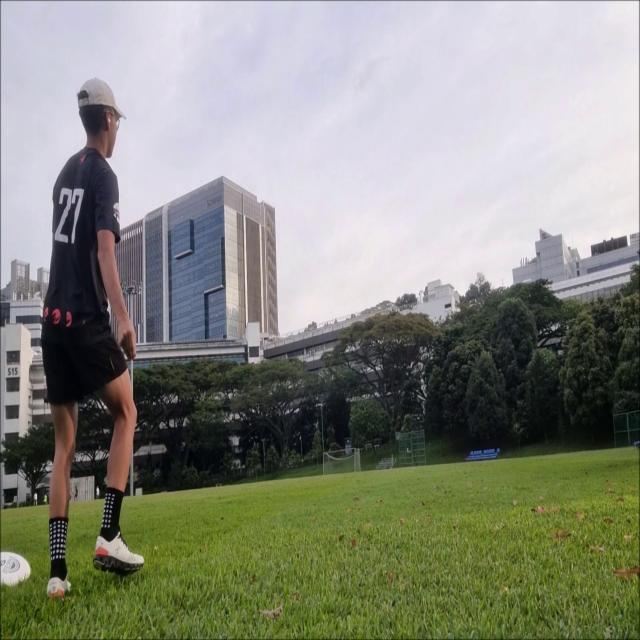disc: (522, 278, 532, 283)
